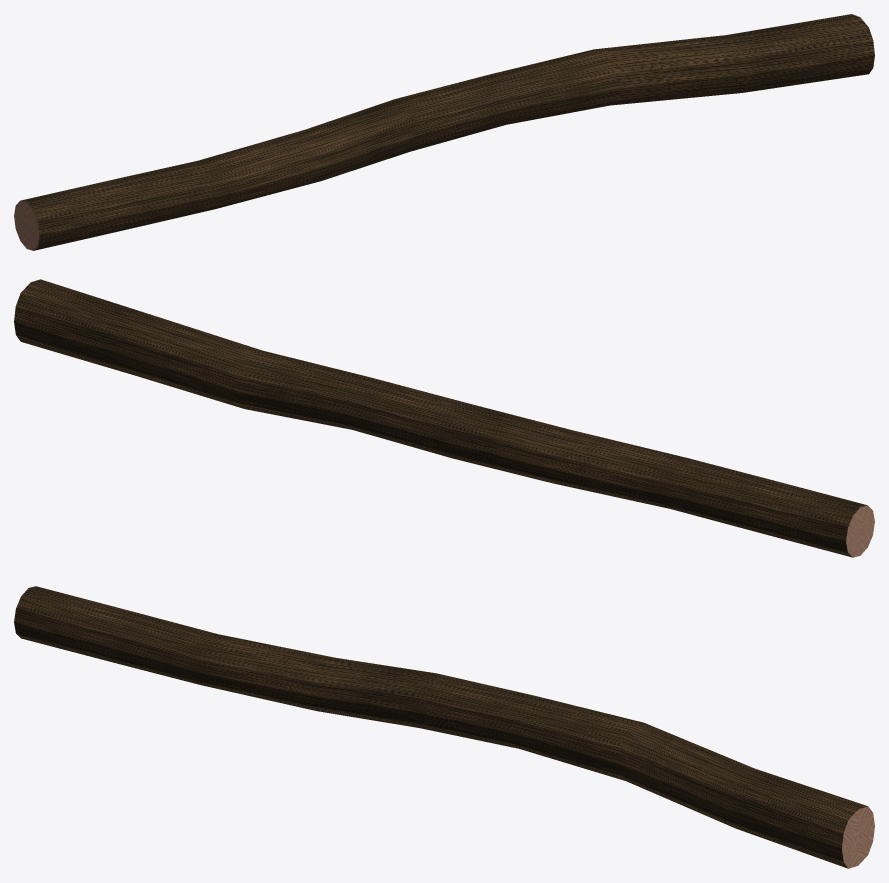
The model's file is IEPROJ3 Branch Perch for Caged Eagle 300X SCALE.fbx.
3 views of the same model, one above another, from view 1: azimuth 30°, elevation 25°; view 2: azimuth 150°, elevation 25°; view 3: azimuth 330°, elevation 25° (orthographic). The views are drawn at different scales.
Visible parts, largest first — view 1: Branch; view 2: Branch; view 3: Branch.
Boxes of the visible parts, x1=… form: Branch: x1=14, y1=14, x2=874, y2=250; Branch: x1=14, y1=279, x2=874, y2=557; Branch: x1=14, y1=586, x2=874, y2=868.
Bounding box in the file's own units: 38196 × 2678 × 4312.
